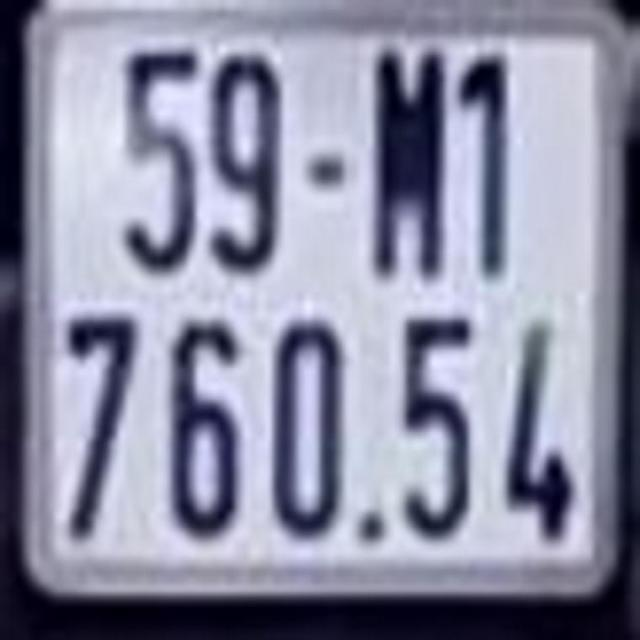0: (264, 311, 348, 536)
1: (60, 308, 136, 544), (454, 51, 514, 276)
4: (499, 300, 576, 548)
5: (398, 311, 477, 544), (120, 48, 198, 274)
6: (170, 315, 240, 536)
9: (208, 49, 282, 274)
M: (368, 35, 446, 279)
